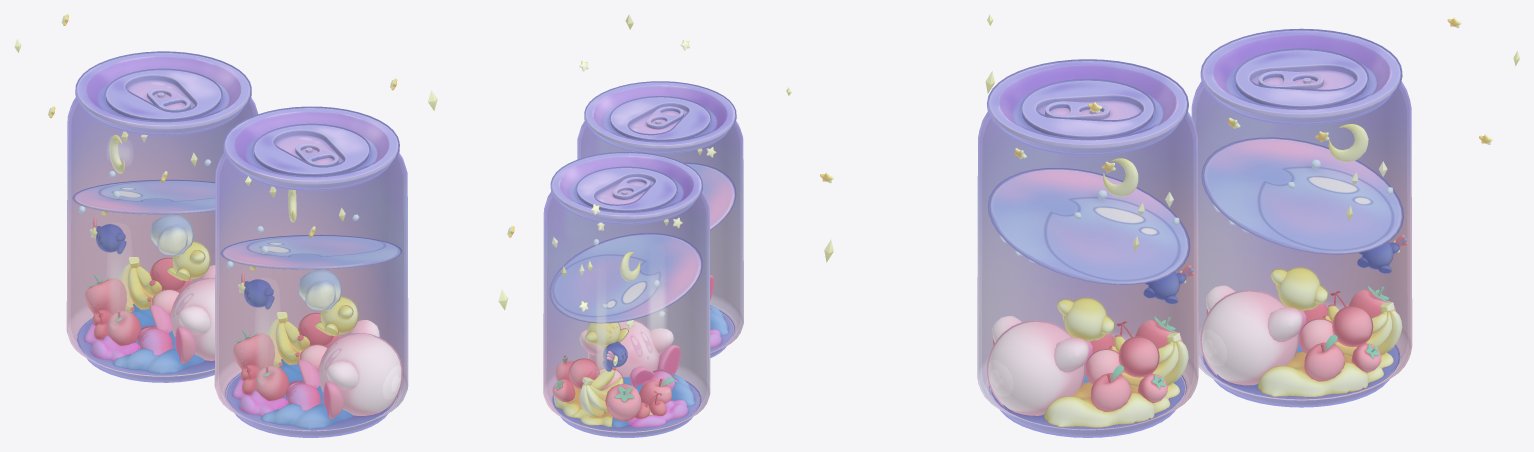
The model's file is kirbys_soda_can.glb.
3 views of the same model, side by side, from view 1: azimuth 30°, elevation 25°; view 2: azimuth 150°, elevation 25°; view 3: azimuth 270°, elevation 25° (orthographic). The views are drawn at different scales.
Parts seen in each view (by area): view 1: polySurface1 (×2), can_outside (×2), cap_adn_bottom (×2), top_liquid (×2), kirby_good_body (×2), floor_piece (×2), polySurface3 (×2), pPlane2 (×2), bananas1 (×2), cloud (×2), strawberry2 (×2), apple2 (×2) (+7 smaller); view 2: polySurface1 (×2), cap_adn_bottom (×2), can_outside (×2), top_liquid (×2), floor_piece (×2), polySurface3 (×2), kirby_good_body, bananas1, pPlane1, lip1 (×2), strawberry2, pPlane3 (+14 smaller); view 3: polySurface1 (×2), can_outside (×2), top_liquid (×2), cap_adn_bottom (×2), kirby_good_body (×2), floor_piece (×2), polySurface3 (×2), bananas1 (×2), kirby_good_body1 (×2), apple3 (×2), lazy_berry (×2), right_hand (×2) (+7 smaller).
Part boxes in pixels (x1=…): polySurface1 (×2): x1=66, y1=97, x2=408, y2=431; can_outside (×2): x1=71, y1=104, x2=403, y2=404; cap_adn_bottom (×2): x1=77, y1=53, x2=398, y2=436; top_liquid (×2): x1=74, y1=180, x2=400, y2=269; kirby_good_body (×2): x1=171, y1=279, x2=401, y2=415; floor_piece (×2): x1=84, y1=304, x2=353, y2=428; polySurface3 (×2): x1=75, y1=51, x2=399, y2=190; pPlane2 (×2): x1=109, y1=251, x2=279, y2=381; bananas1 (×2): x1=119, y1=257, x2=309, y2=367; cloud (×2): x1=151, y1=216, x2=340, y2=309; strawberry2 (×2): x1=84, y1=274, x2=274, y2=369; apple2 (×2): x1=106, y1=310, x2=289, y2=400; polySurface1 (×2): x1=543, y1=121, x2=743, y2=432; cap_adn_bottom (×2): x1=552, y1=82, x2=735, y2=436; can_outside (×2): x1=547, y1=127, x2=739, y2=408; top_liquid (×2): x1=551, y1=163, x2=734, y2=322; floor_piece (×2): x1=554, y1=304, x2=728, y2=427; polySurface3 (×2): x1=550, y1=81, x2=736, y2=224; kirby_good_body: x1=588, y1=321, x2=659, y2=377; bananas1: x1=579, y1=367, x2=623, y2=417; pPlane1: x1=649, y1=270, x2=665, y2=344; lip1 (×2): x1=612, y1=106, x2=683, y2=199; strawberry2: x1=605, y1=384, x2=641, y2=421; pPlane3: x1=596, y1=293, x2=606, y2=386; polySurface1 (×2): x1=977, y1=81, x2=1412, y2=430; can_outside (×2): x1=982, y1=89, x2=1406, y2=401; top_liquid (×2): x1=989, y1=139, x2=1401, y2=284; cap_adn_bottom (×2): x1=988, y1=30, x2=1400, y2=436; kirby_good_body (×2): x1=988, y1=291, x2=1297, y2=415; floor_piece (×2): x1=1040, y1=341, x2=1393, y2=427; polySurface3 (×2): x1=987, y1=28, x2=1402, y2=155; bananas1 (×2): x1=1108, y1=302, x2=1402, y2=386; kirby_good_body1 (×2): x1=1065, y1=268, x2=1319, y2=340; apple3 (×2): x1=1090, y1=334, x2=1344, y2=411; lazy_berry (×2): x1=1120, y1=307, x2=1371, y2=376; right_hand (×2): x1=1054, y1=307, x2=1302, y2=372.
Size of the model in its own units: 0.8117 by 1.12 by 1.9.
Materials: 11 (3 with a texture image).
